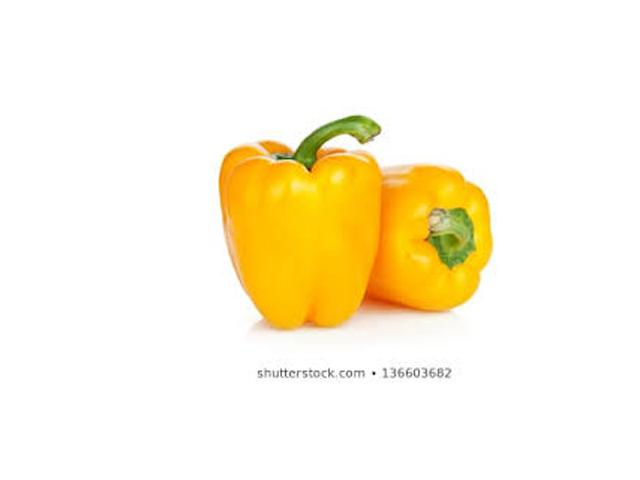bell_pepper: (358, 152, 493, 318)
